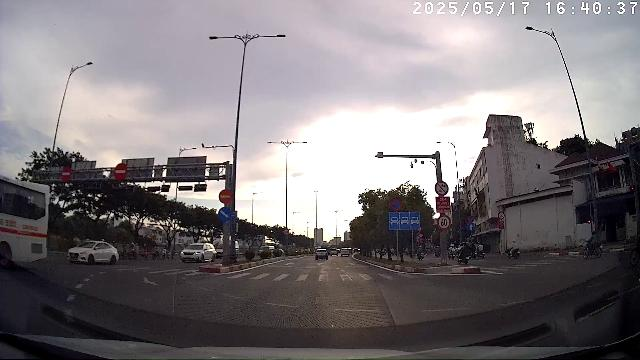102-cam-di-nguoc-chieu: (113, 162, 127, 182), (218, 189, 232, 204), (61, 166, 71, 182)
127-toc-do-toi-da-60: (437, 214, 451, 230)
302a-huong-phai-di-vong-chuong-ngai-vat-1: (218, 206, 232, 221)
